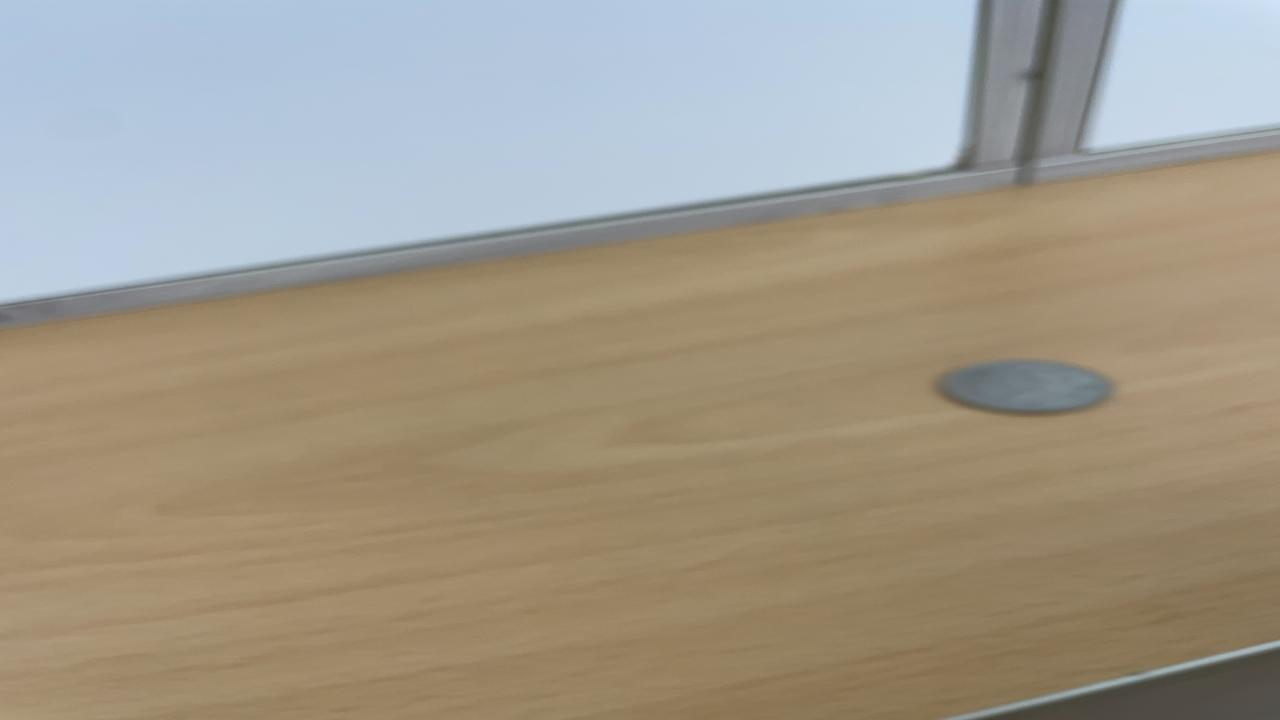coin: (933, 356, 1125, 417)
